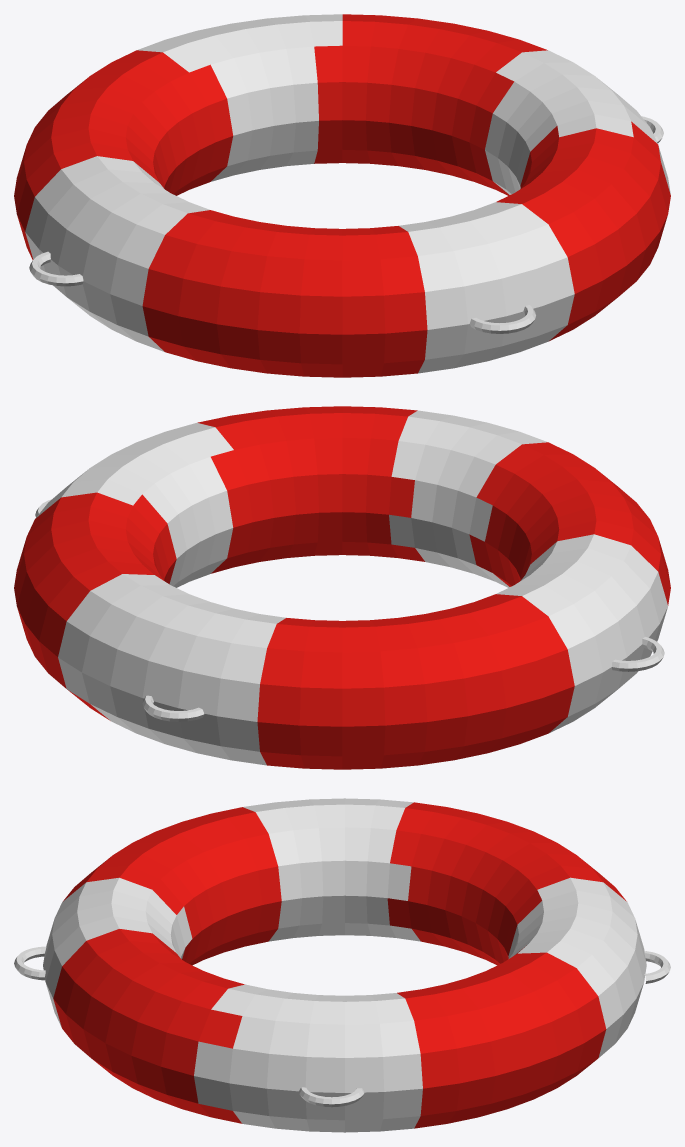
File: boat.glb
3 views of the same model, one above another, from view 1: azimuth 30°, elevation 25°; view 2: azimuth 150°, elevation 25°; view 3: azimuth 270°, elevation 25° (orthographic). The views are drawn at different scales.
Visible parts, largest first — view 1: Torus, Torus.004; view 2: Torus, Torus.004; view 3: Torus, Torus.004.
Boxes of the visible parts, left/top/right/bottom form: Torus: left=14, top=14, right=670, bottom=377; Torus.004: left=29, top=116, right=663, bottom=333; Torus: left=14, top=406, right=670, bottom=769; Torus.004: left=35, top=499, right=664, bottom=721; Torus: left=43, top=798, right=646, bottom=1132; Torus.004: left=14, top=946, right=670, bottom=1107.
Size of the model in its own units: 3.95 by 0.8216 by 3.93.
